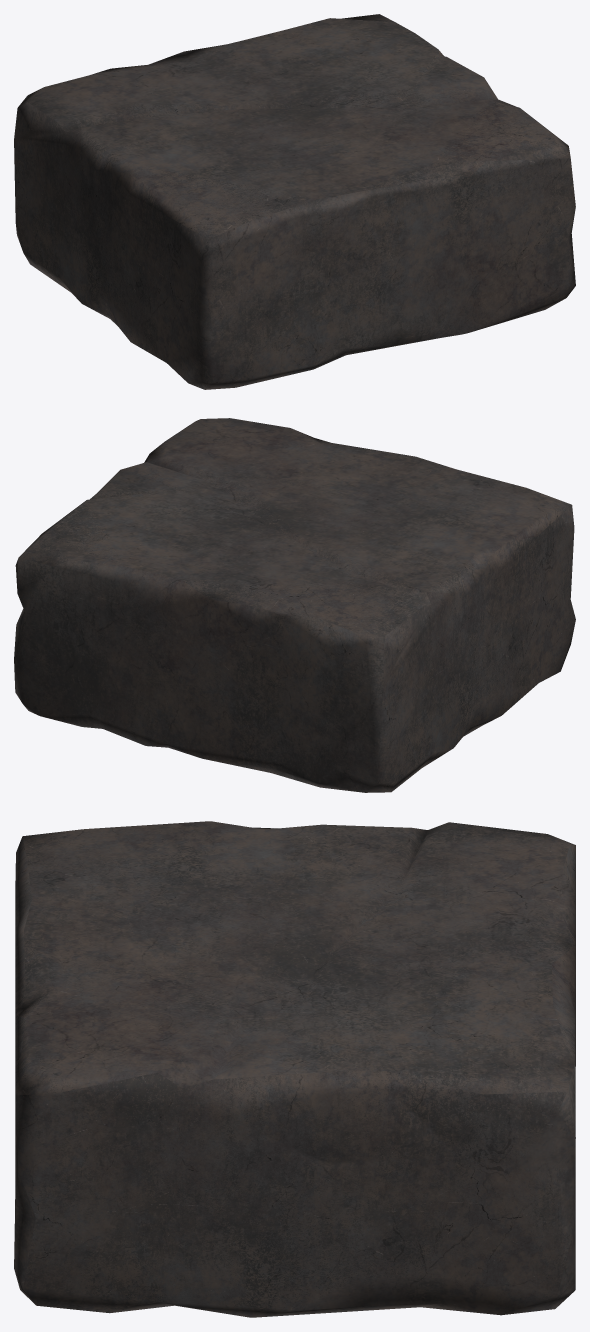
Rendered from SM_Block1.fbx.
3 views of the same model, one above another, from view 1: azimuth 30°, elevation 25°; view 2: azimuth 150°, elevation 25°; view 3: azimuth 270°, elevation 25° (orthographic). The views are drawn at different scales.
Parts seen in each view (by area): view 1: SM_Block1_LOD0; view 2: SM_Block1_LOD0; view 3: SM_Block1_LOD0.
Part boxes in pixels (x1,y1,x2,y2): SM_Block1_LOD0: (14, 14, 575, 389); SM_Block1_LOD0: (14, 418, 575, 792); SM_Block1_LOD0: (14, 821, 575, 1317).
Bounding box in the file's own units: 110 × 100 × 48.05.
1 material, 1 textured.
